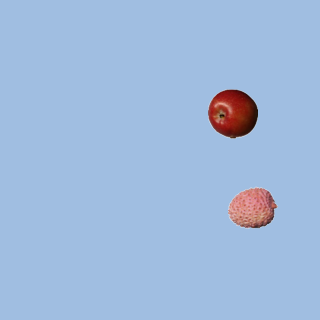Apple Braeburn: (207, 88, 257, 138)
Lychee: (227, 182, 277, 232)
